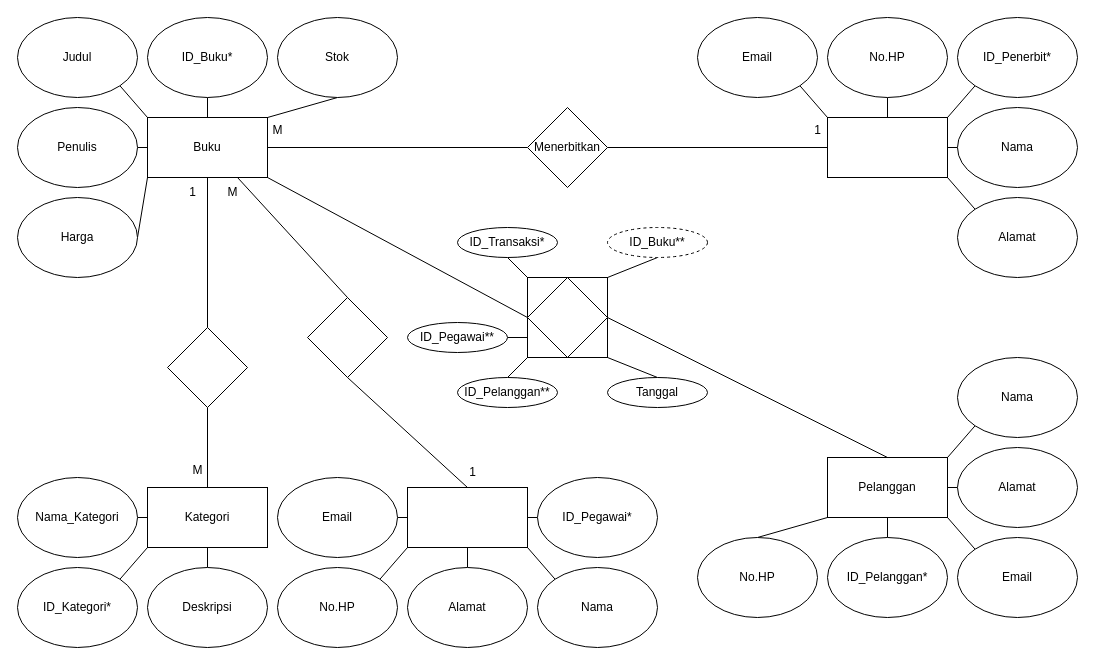
This 1095x665 diagram has some shape labels left out. Each missing label, with the box of its shape:
Menjaga: (306, 296, 388, 378)
Pegawai: (406, 486, 528, 548)
Penerbit: (826, 116, 948, 178)
Terkait: (166, 326, 248, 408)
Transaksi: (526, 276, 608, 358)
